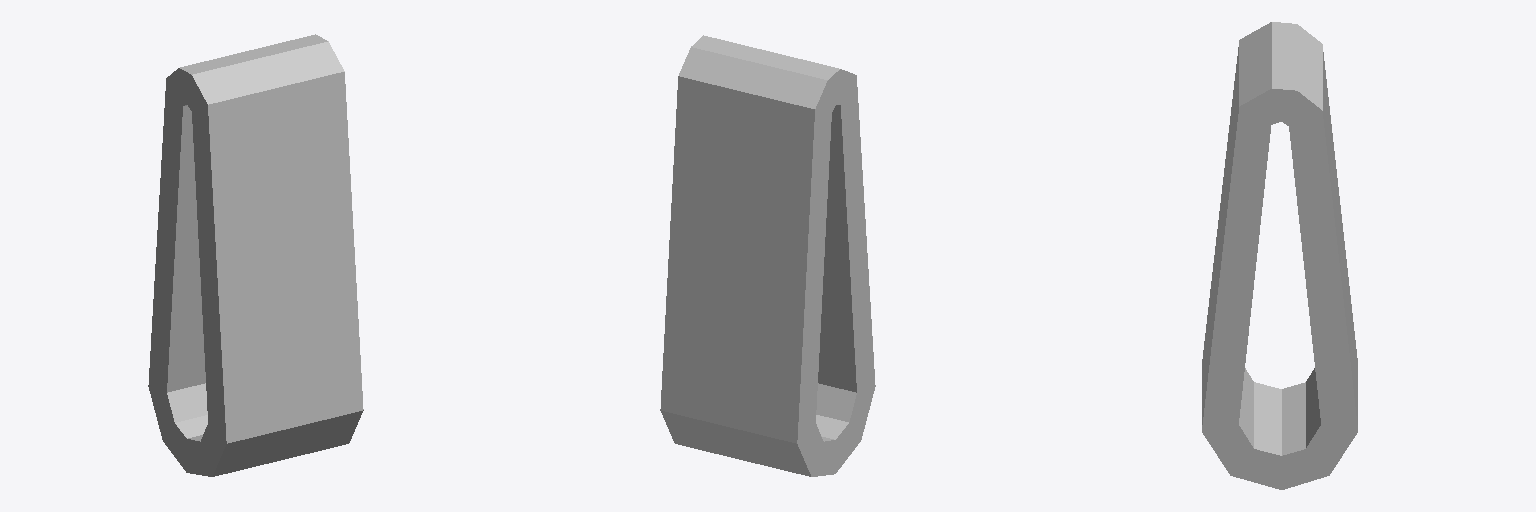
Rendered from track_collision2.obj.
The picture shows the model from 3 angles: view 1: azimuth 30°, elevation 25°; view 2: azimuth 150°, elevation 25°; view 3: azimuth 270°, elevation 25°; orthographic projection.
Parts seen in each view (by area): view 1: Cylinder.001; view 2: Cylinder.001; view 3: Cylinder.001.
Boxes of the visible parts, box(x1,y1,x2,y2) form: Cylinder.001: box(148, 34, 363, 476); Cylinder.001: box(660, 35, 875, 476); Cylinder.001: box(1202, 22, 1357, 489).
Size of the model in its own units: 1 by 2.81 by 0.9902.